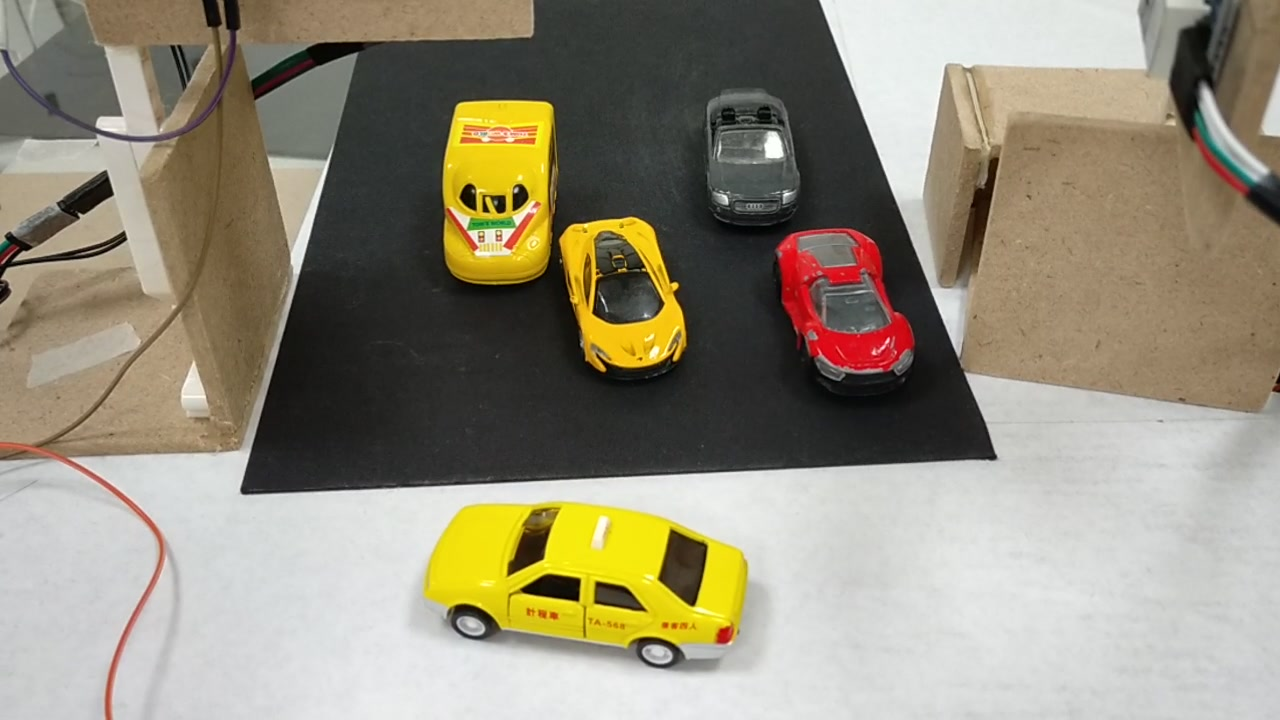car: (429, 506, 752, 666), (768, 230, 918, 397), (553, 221, 697, 378), (697, 93, 803, 229)
